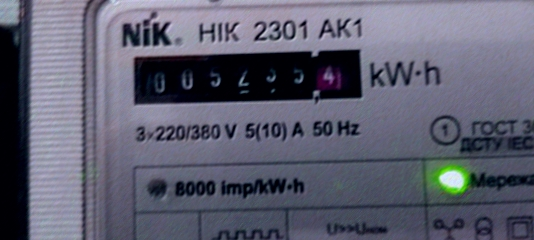0: (151, 69, 167, 94), (179, 66, 194, 91)
2: (234, 62, 250, 88)
3: (261, 59, 278, 84)
4: (319, 58, 337, 87)
5: (289, 57, 305, 86), (207, 63, 221, 88)
screen: (120, 39, 371, 113)
